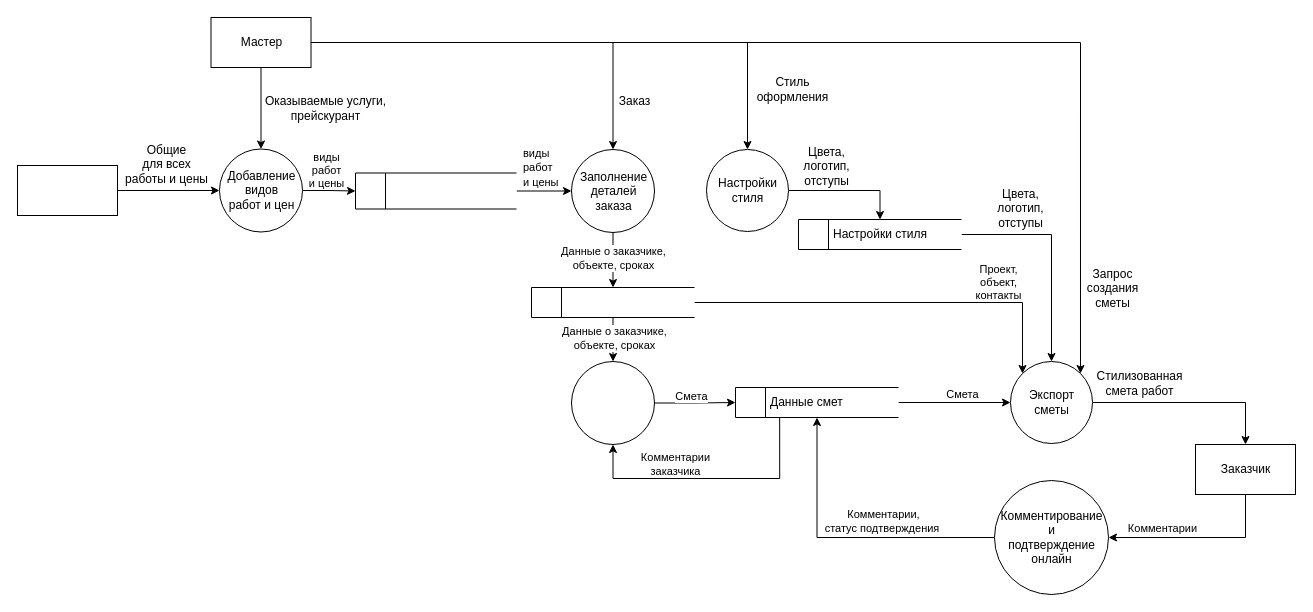
Some shapes in this 1313 by 612 pixel diagram are drawn without their labels. The centre of each missing label's shape, as x and y in pixels:
Администратор: the point at 67,190
Данные проекта: the point at 612,302
Заполнение работ по заказу: the point at 612,402
Справочник видов работ и цен: the point at 435,190
